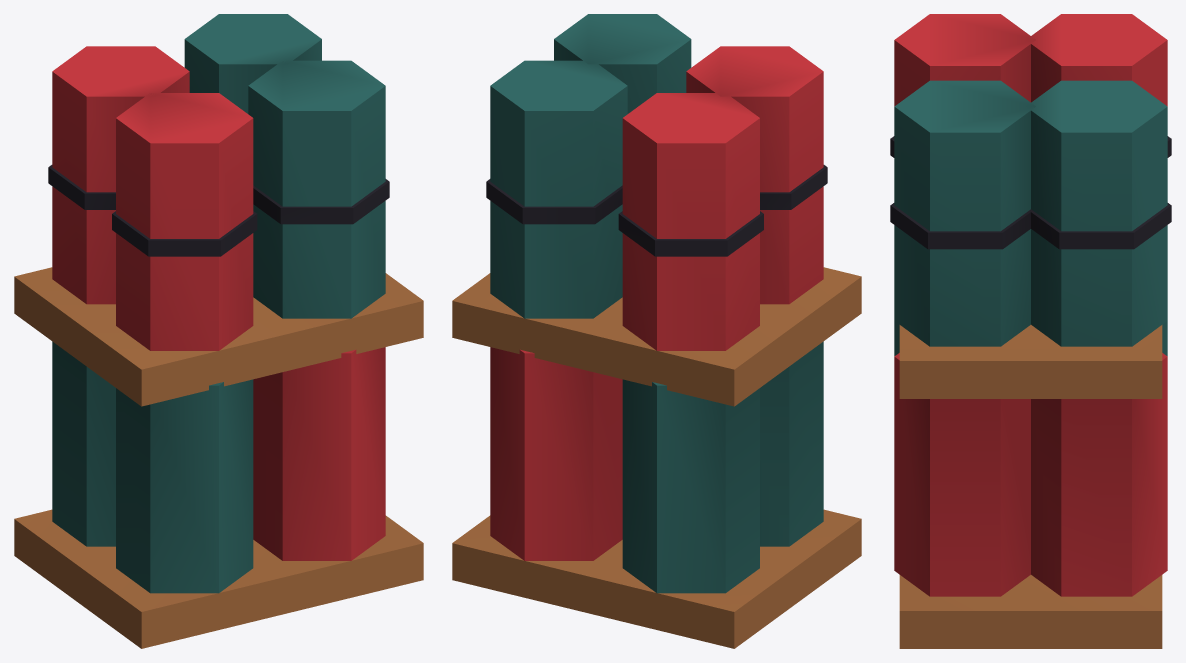
Rendered from prop.cure-drum-stack.lod2.glb.
3 views of the same model, side by side, from view 1: azimuth 30°, elevation 25°; view 2: azimuth 150°, elevation 25°; view 3: azimuth 270°, elevation 25° (orthographic). The views are drawn at different scales.
Parts seen in each view (by area): view 1: body; view 2: body; view 3: body.
Boxes of the visible parts, bbox=[...] form: body: bbox=[14, 14, 423, 648]; body: bbox=[452, 14, 861, 648]; body: bbox=[890, 14, 1171, 648].
Bounding box in the file's own units: 1.28 × 2.12 × 1.07.
